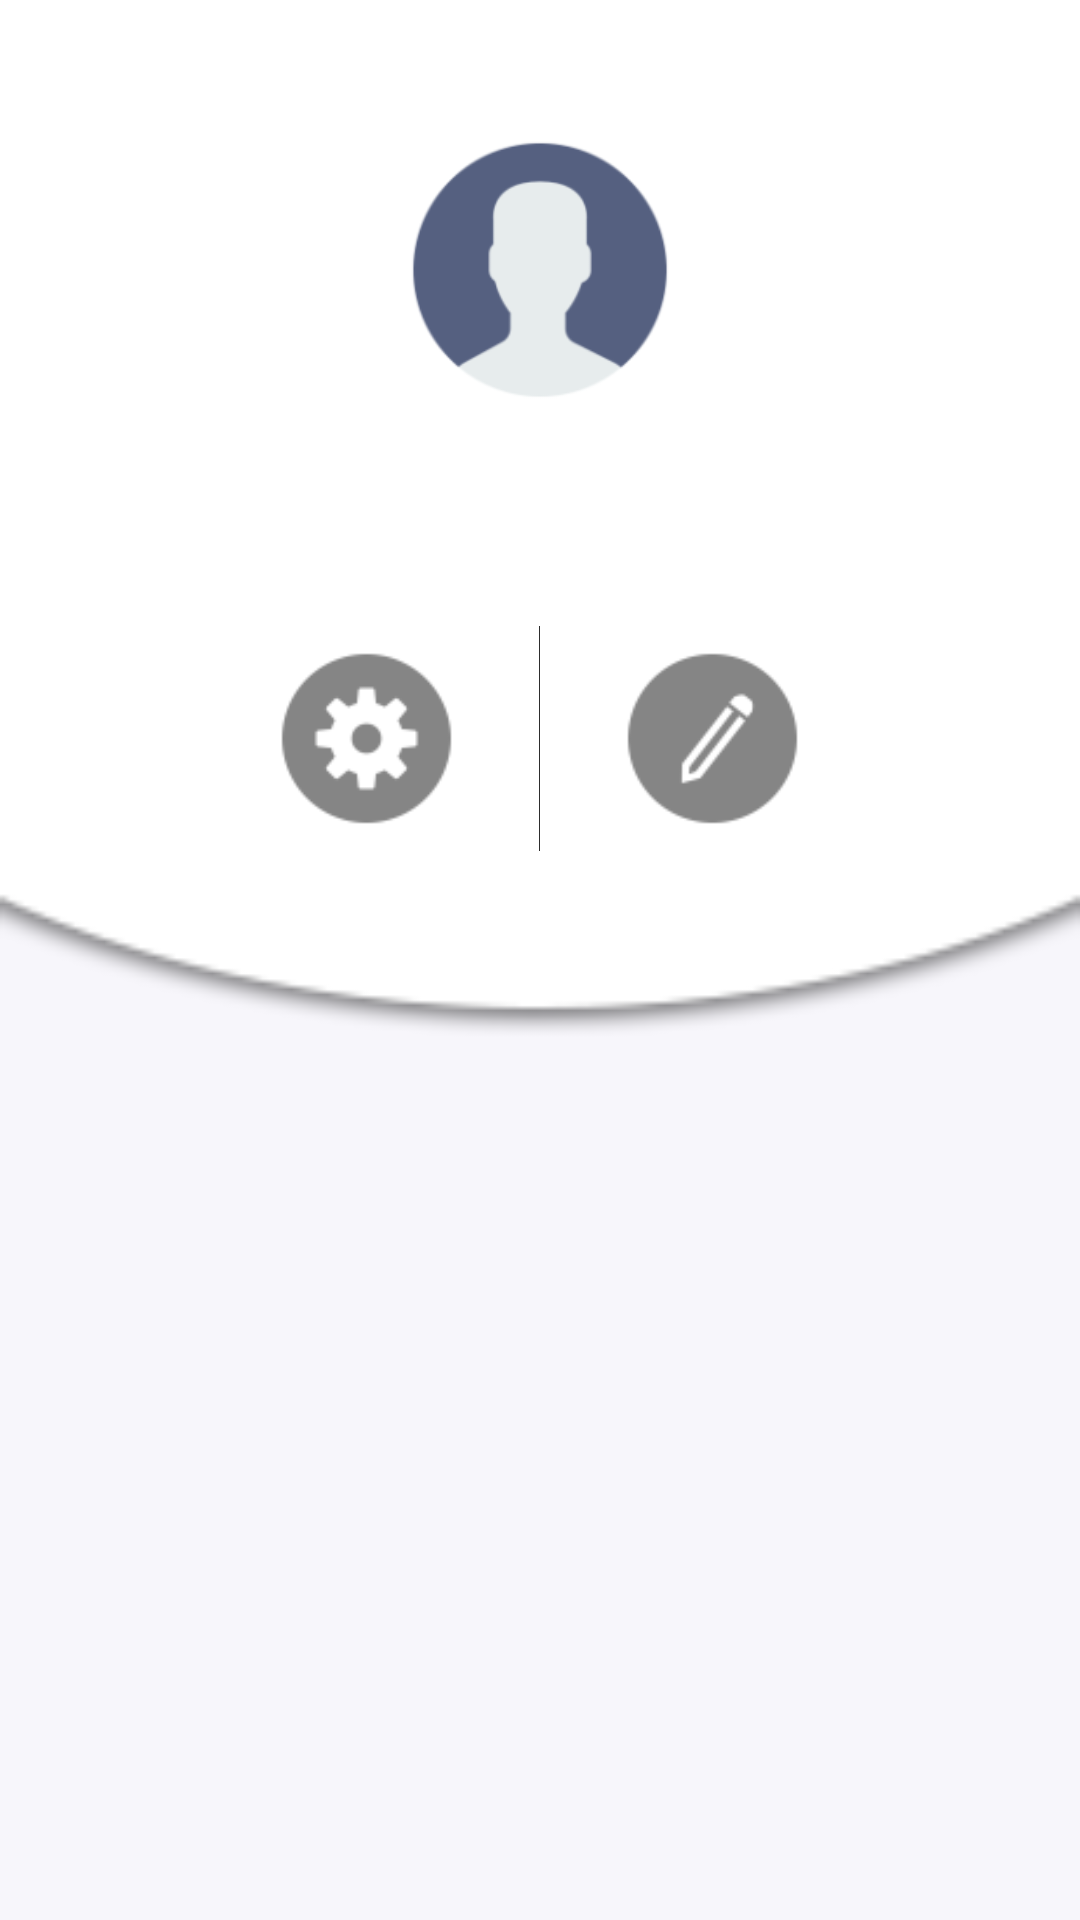

Screen size 1080*1920. Icon name, then its center in pixels as [x,y]:
edit: [712,738]
settings: [366,738]
user: [540,255]
